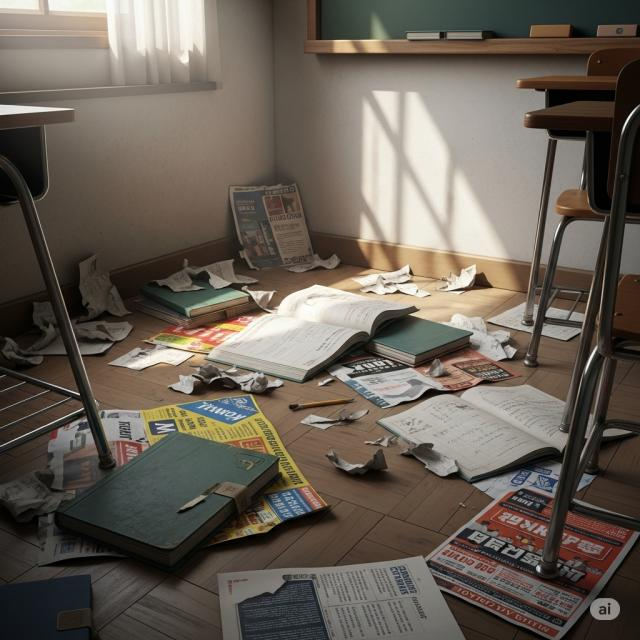paper: (170, 359, 285, 403), (162, 248, 262, 292), (348, 260, 427, 302), (326, 448, 389, 478), (438, 267, 482, 290)
